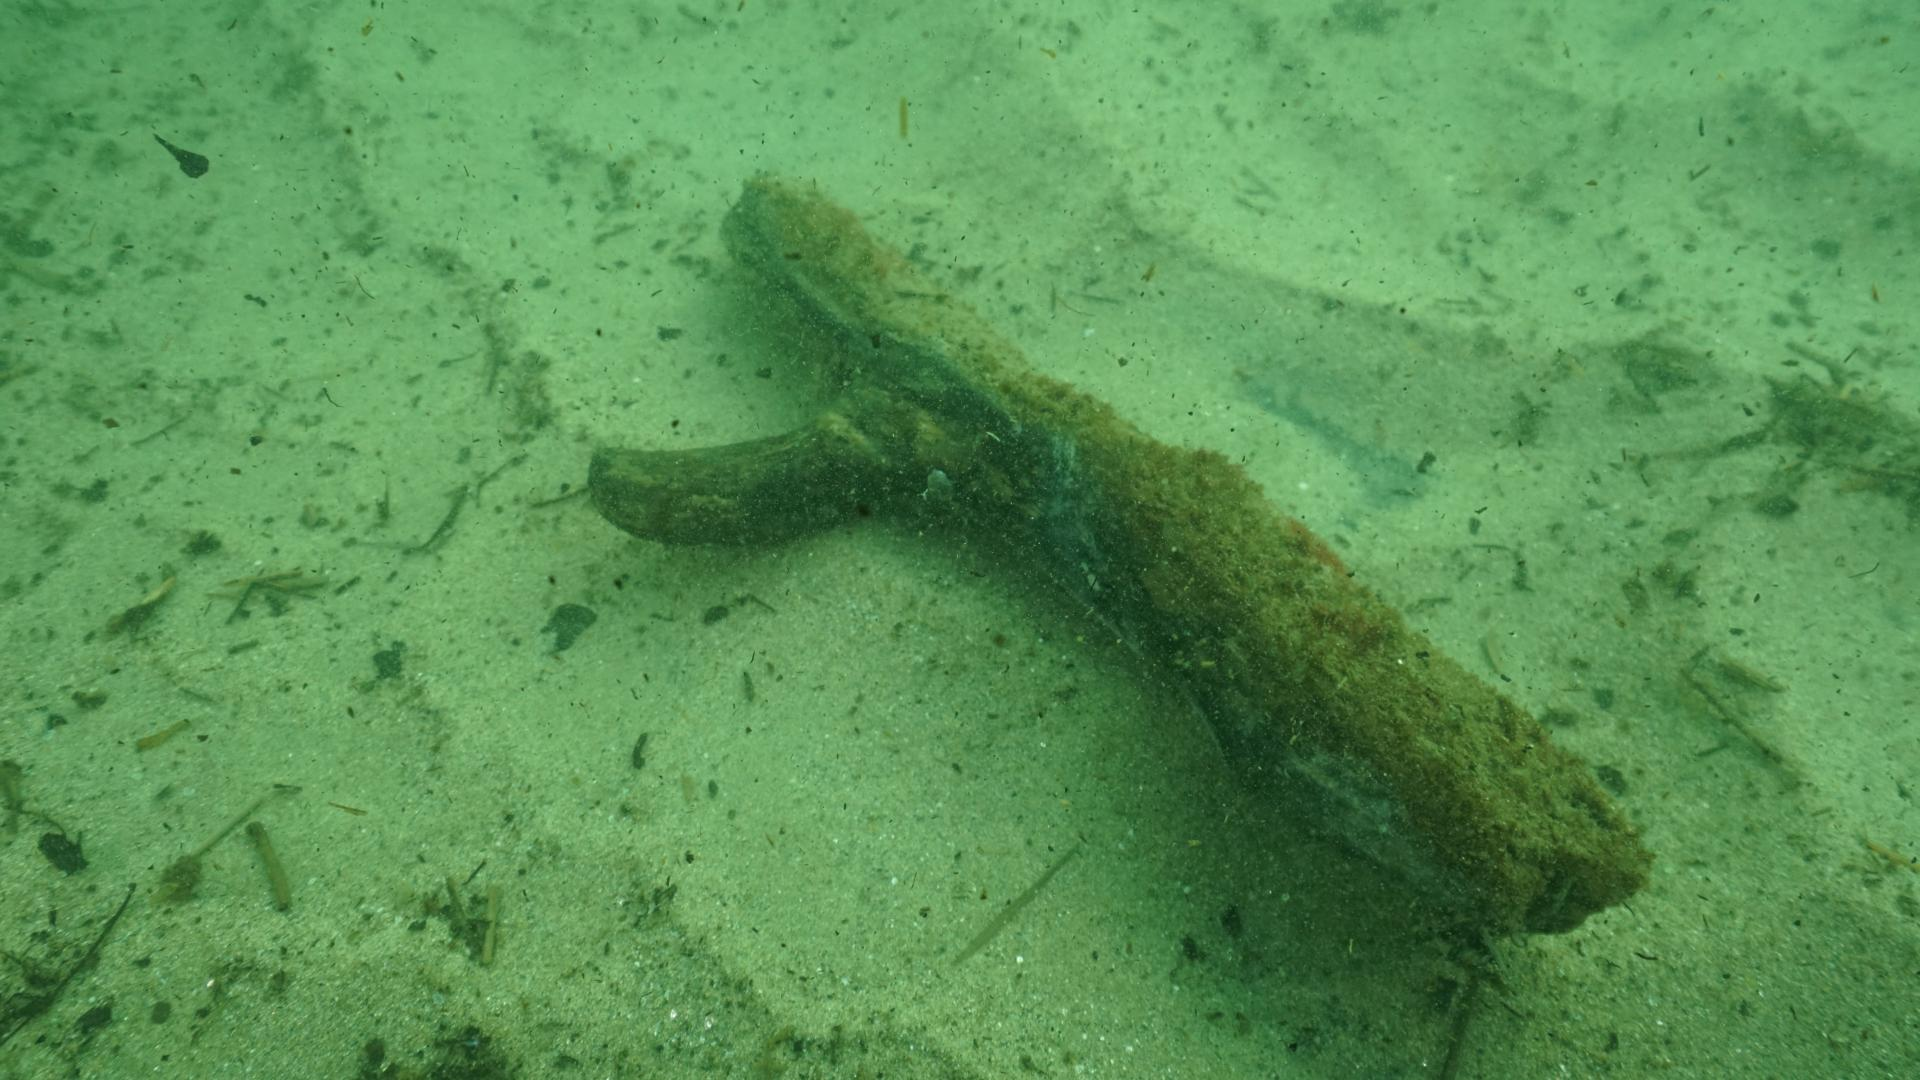wood: (582, 173, 1654, 939)
